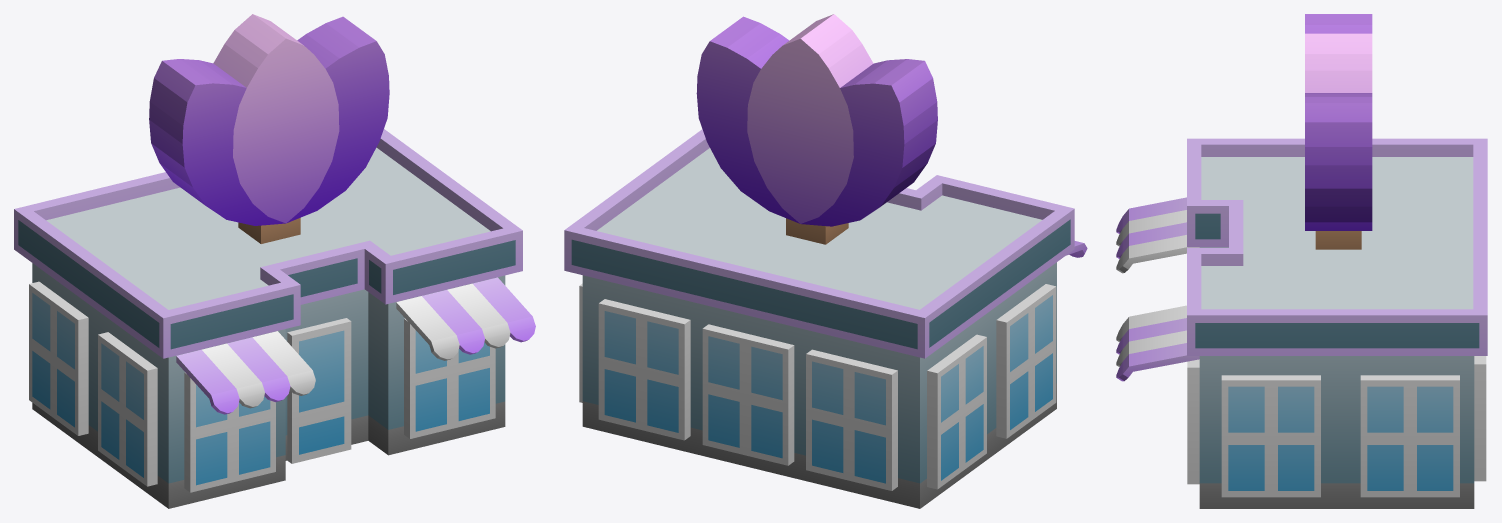
The model's file is flower shop.fbx.
3 renders of one model, left to right at view 1: azimuth 30°, elevation 25°; view 2: azimuth 150°, elevation 25°; view 3: azimuth 270°, elevation 25°, orthographic.
Visible parts, largest first — view 1: flower_shop; view 2: flower_shop; view 3: flower_shop.
Boxes of the visible parts, x1,y1,x2,y2 form: flower_shop: (14, 14, 535, 508); flower_shop: (564, 14, 1087, 508); flower_shop: (1116, 14, 1487, 508).
Size of the model in its own units: 612 by 635 by 543.
Materials: 1 (1 with a texture image).
